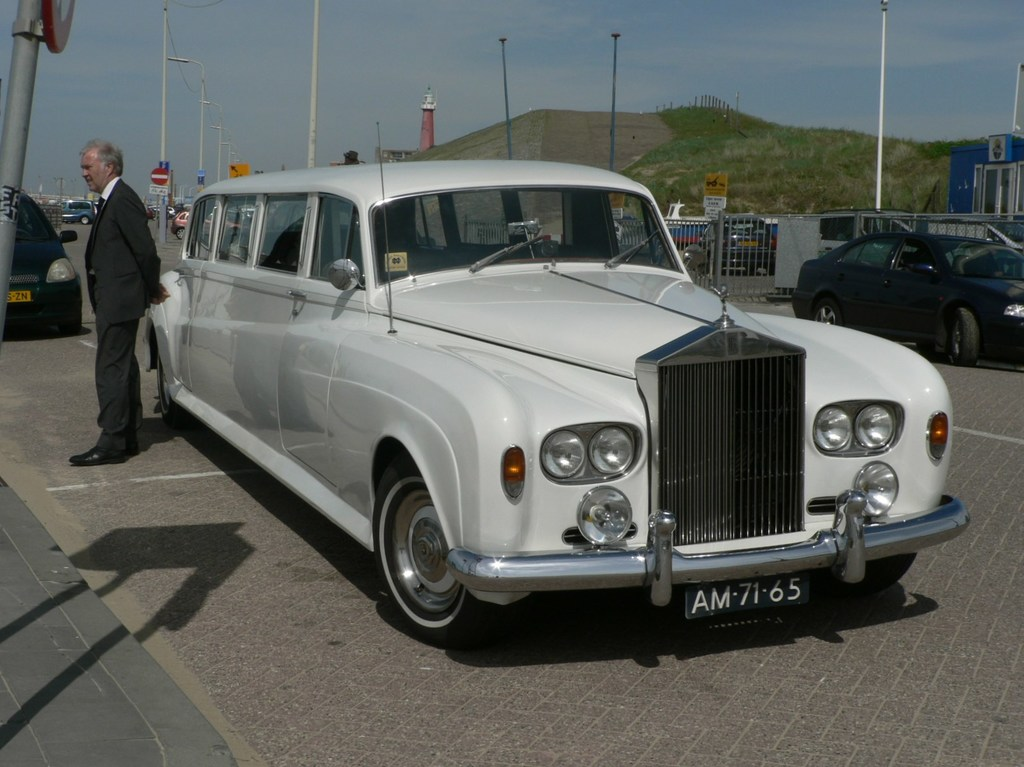car: (137, 140, 981, 639), (781, 213, 1024, 381), (1, 163, 100, 341)
